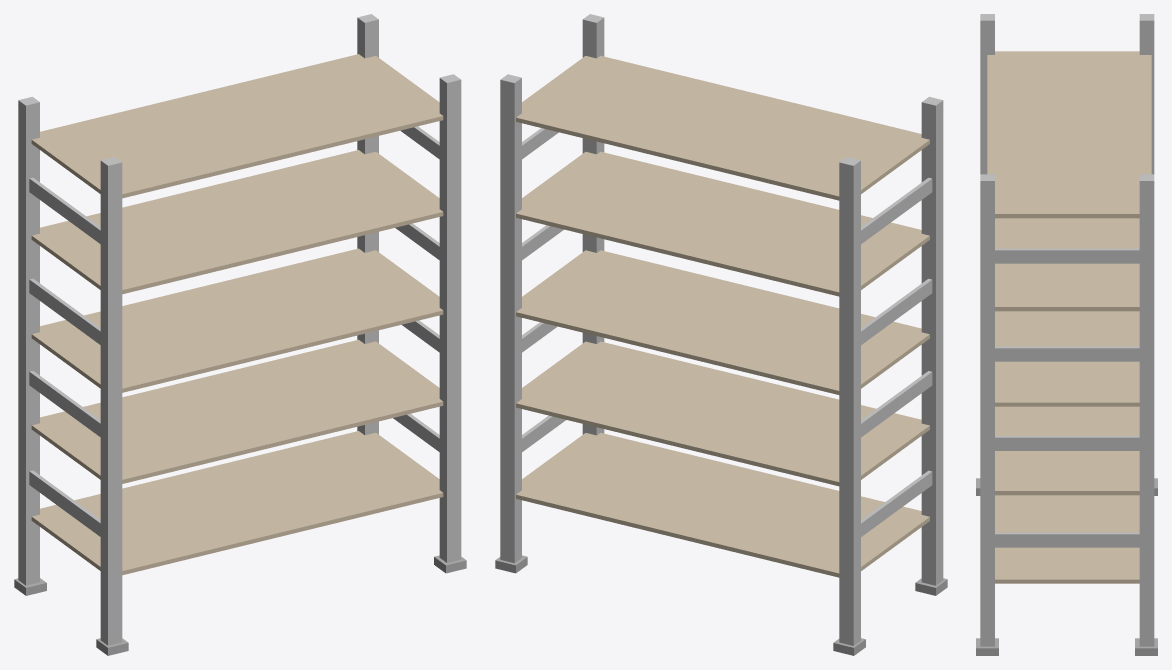
Rendered from rack.fbx.
3 views of the same model, side by side, from view 1: azimuth 30°, elevation 25°; view 2: azimuth 150°, elevation 25°; view 3: azimuth 270°, elevation 25° (orthographic). The views are drawn at different scales.
Visible parts, largest first — view 1: Cube_16; view 2: Cube_16; view 3: Cube_16.
Part boxes in pixels (x1,y1,x2,y2): Cube_16: (14, 14, 466, 655); Cube_16: (495, 14, 947, 655); Cube_16: (976, 14, 1157, 655).
Size of the model in its own units: 208 by 271 by 94.34.
